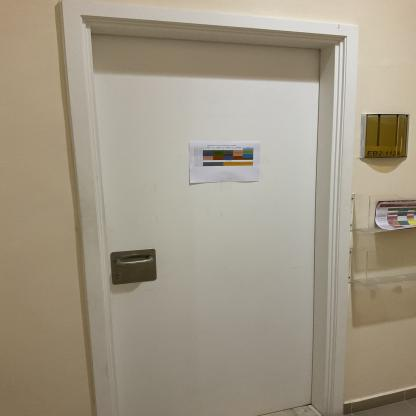closed: (28, 6, 379, 415)
